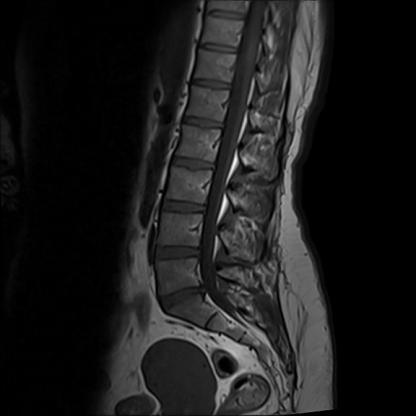Degenerative Disc Diseaserotation: (161, 286, 209, 307)
Disc Herniationrotation: (161, 286, 209, 307)
